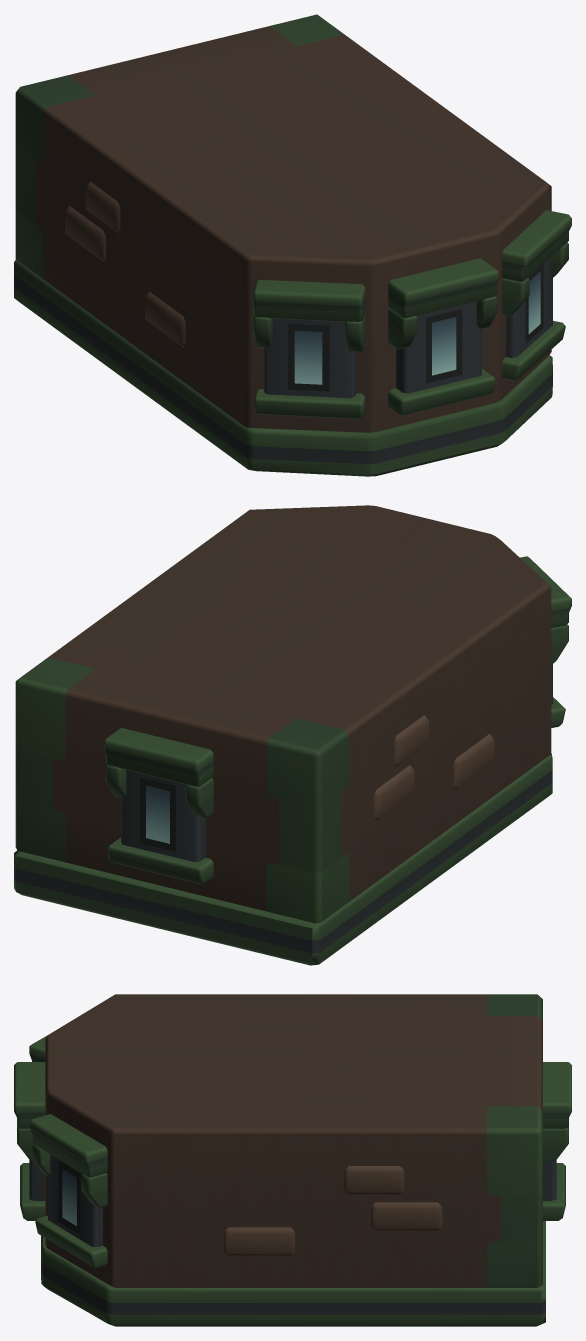
File: appartment_type4_element_brown.fbx
3 renders of one model, top to bottom at view 1: azimuth 30°, elevation 25°; view 2: azimuth 150°, elevation 25°; view 3: azimuth 270°, elevation 25°, orthographic. The views are drawn at different scales.
Parts seen in each view (by area): view 1: appartment_type4_element_brown; view 2: appartment_type4_element_brown; view 3: appartment_type4_element_brown.
Part boxes in pixels (x1,y1,x2,y2): appartment_type4_element_brown: (14, 14, 571, 476); appartment_type4_element_brown: (14, 505, 571, 965); appartment_type4_element_brown: (14, 994, 571, 1326).
Size of the model in its own units: 630 by 409 by 1043.
